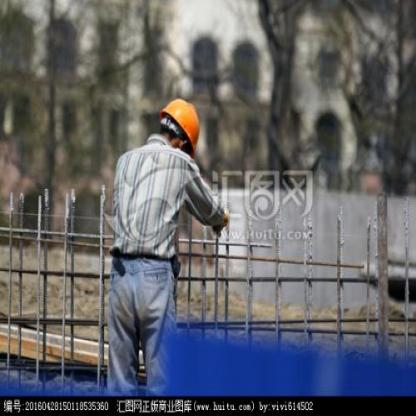helmet: (149, 94, 205, 156)
